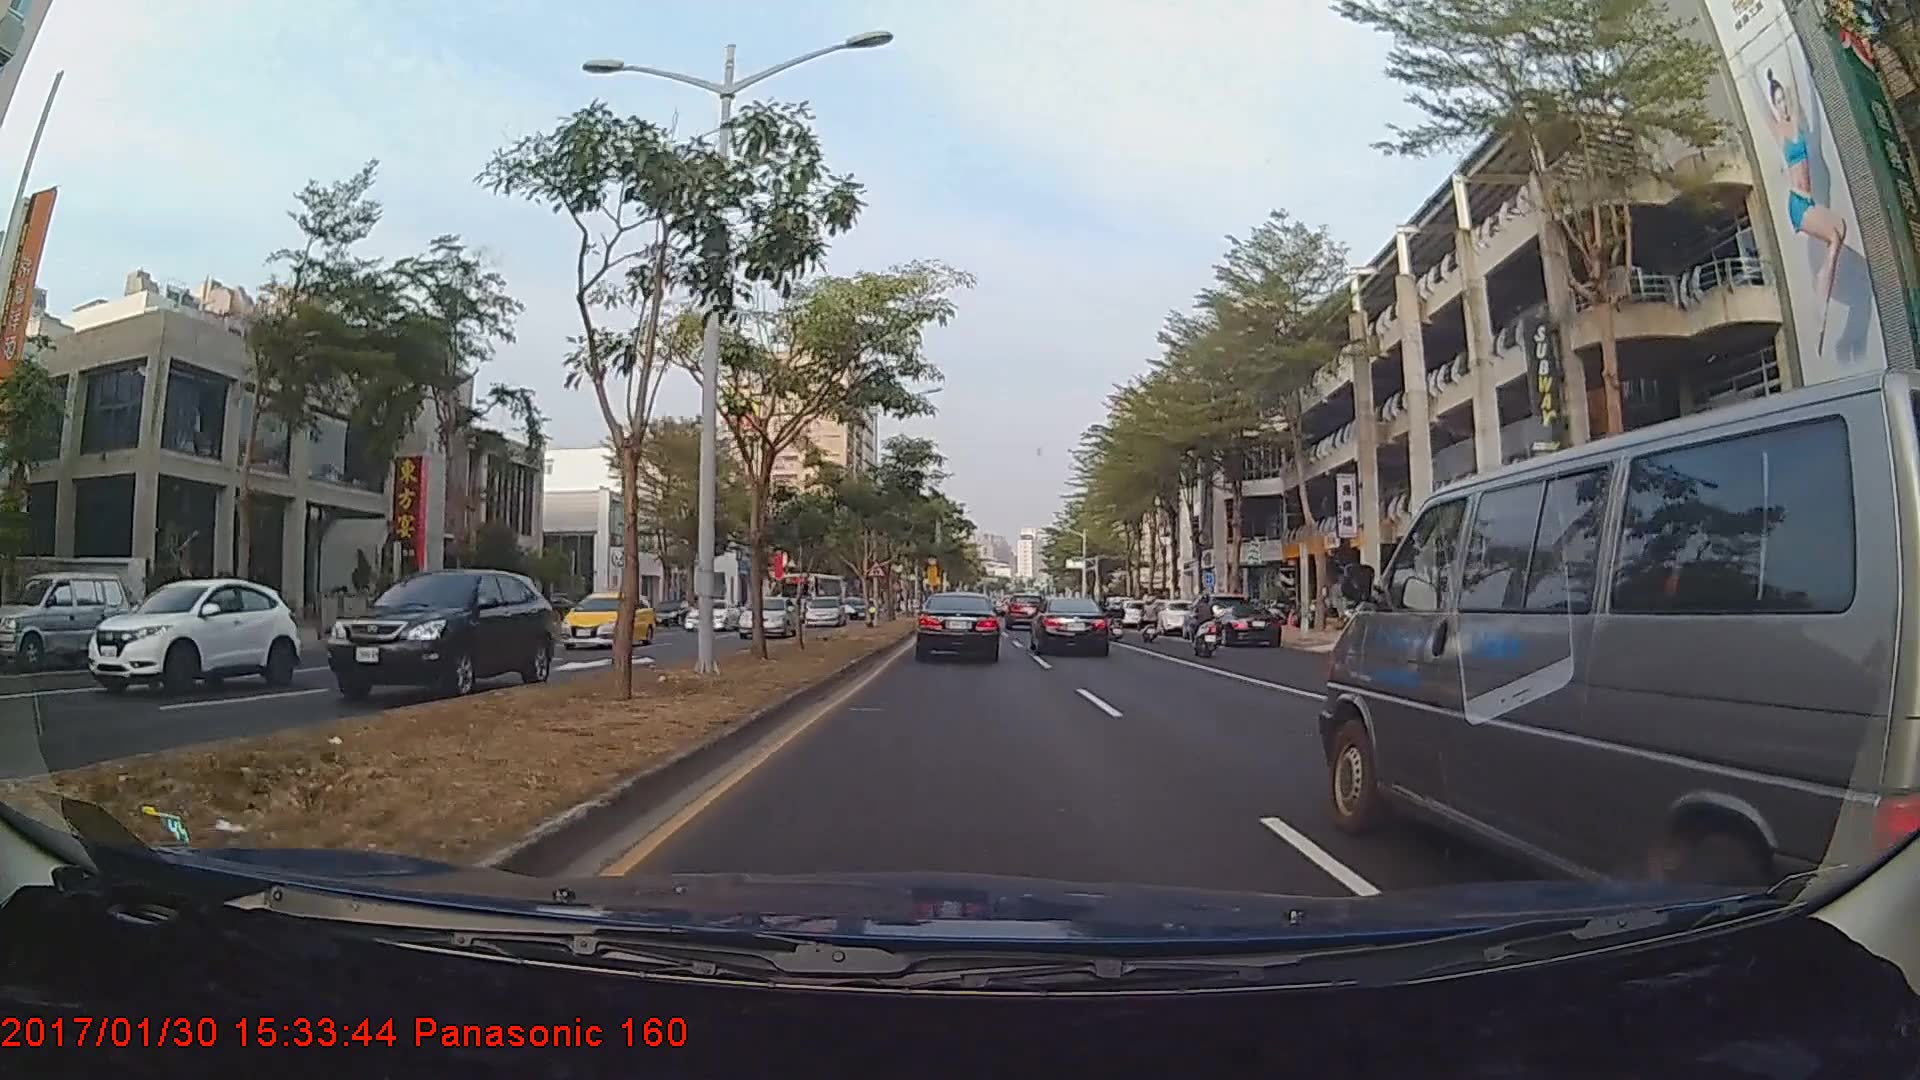rider: (1186, 588, 1225, 662), (1137, 588, 1164, 643)
vehicle: (1314, 400, 1900, 904), (322, 568, 553, 701), (83, 577, 298, 695), (0, 570, 133, 672), (557, 590, 655, 651), (917, 589, 1001, 662), (1032, 594, 1110, 656), (776, 571, 844, 622), (1181, 592, 1251, 642), (1205, 605, 1281, 649), (735, 595, 798, 641), (682, 596, 738, 633), (1147, 600, 1198, 634), (803, 592, 844, 626), (1006, 590, 1045, 625)
